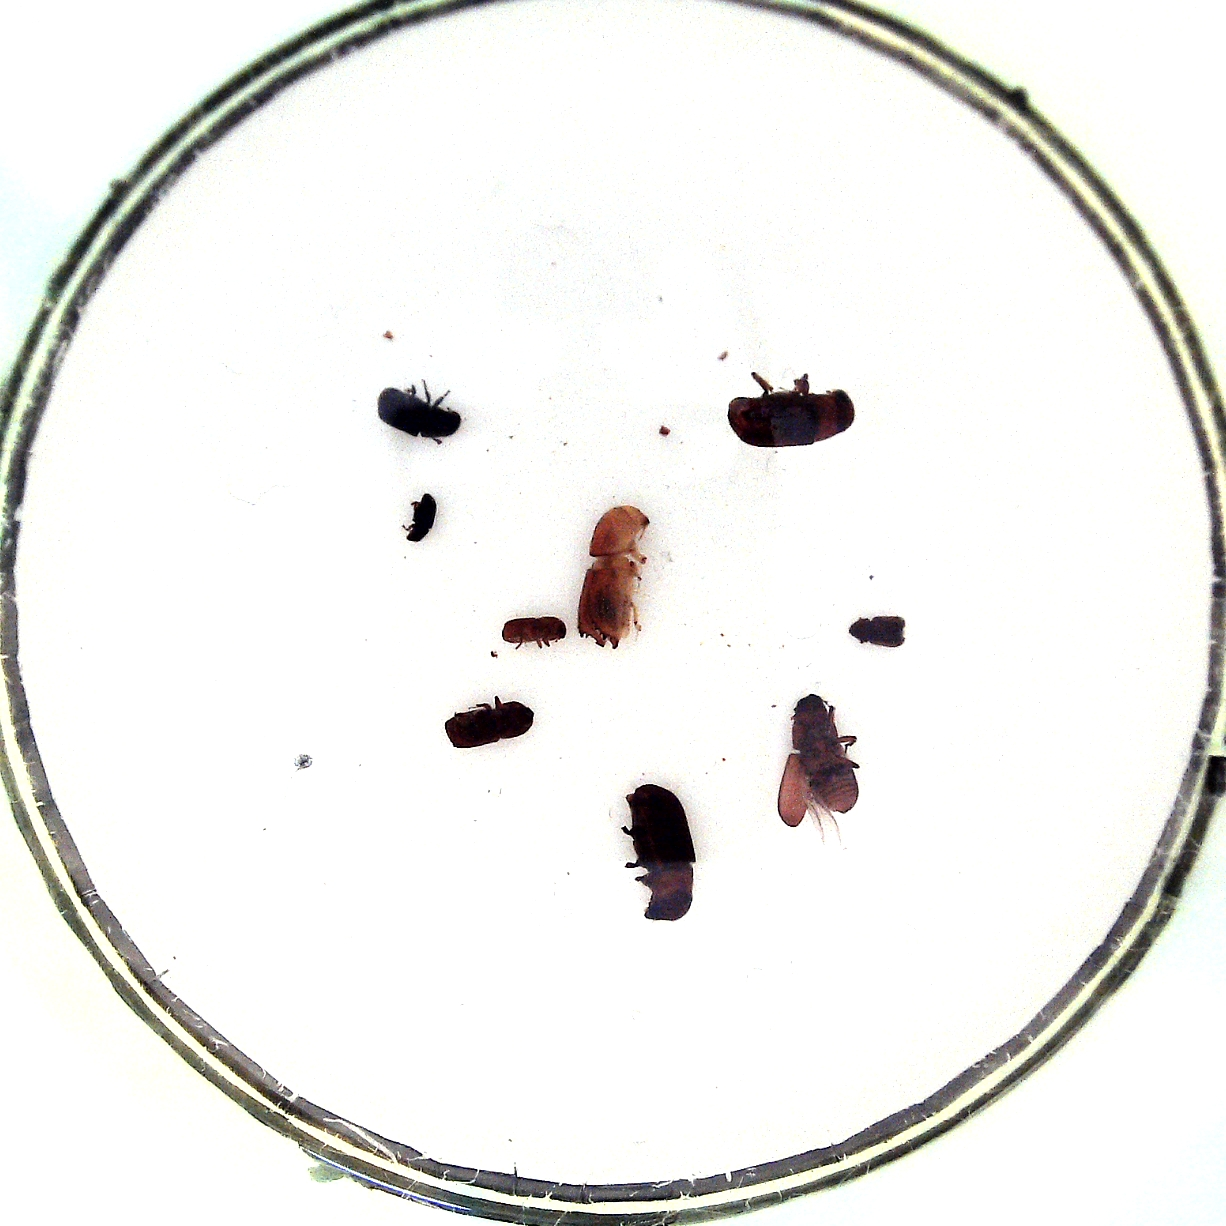Boerner: (576, 504, 652, 651)
Leconte: (628, 783, 694, 922), (789, 693, 859, 814), (729, 388, 856, 449)
acuminatus: (406, 492, 436, 541)
armandi: (379, 387, 460, 439)
coleoptera: (502, 616, 566, 646), (848, 615, 906, 647)
linnaeus: (443, 701, 534, 748)
